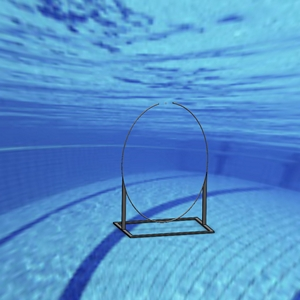circle: (112, 99, 216, 238)
